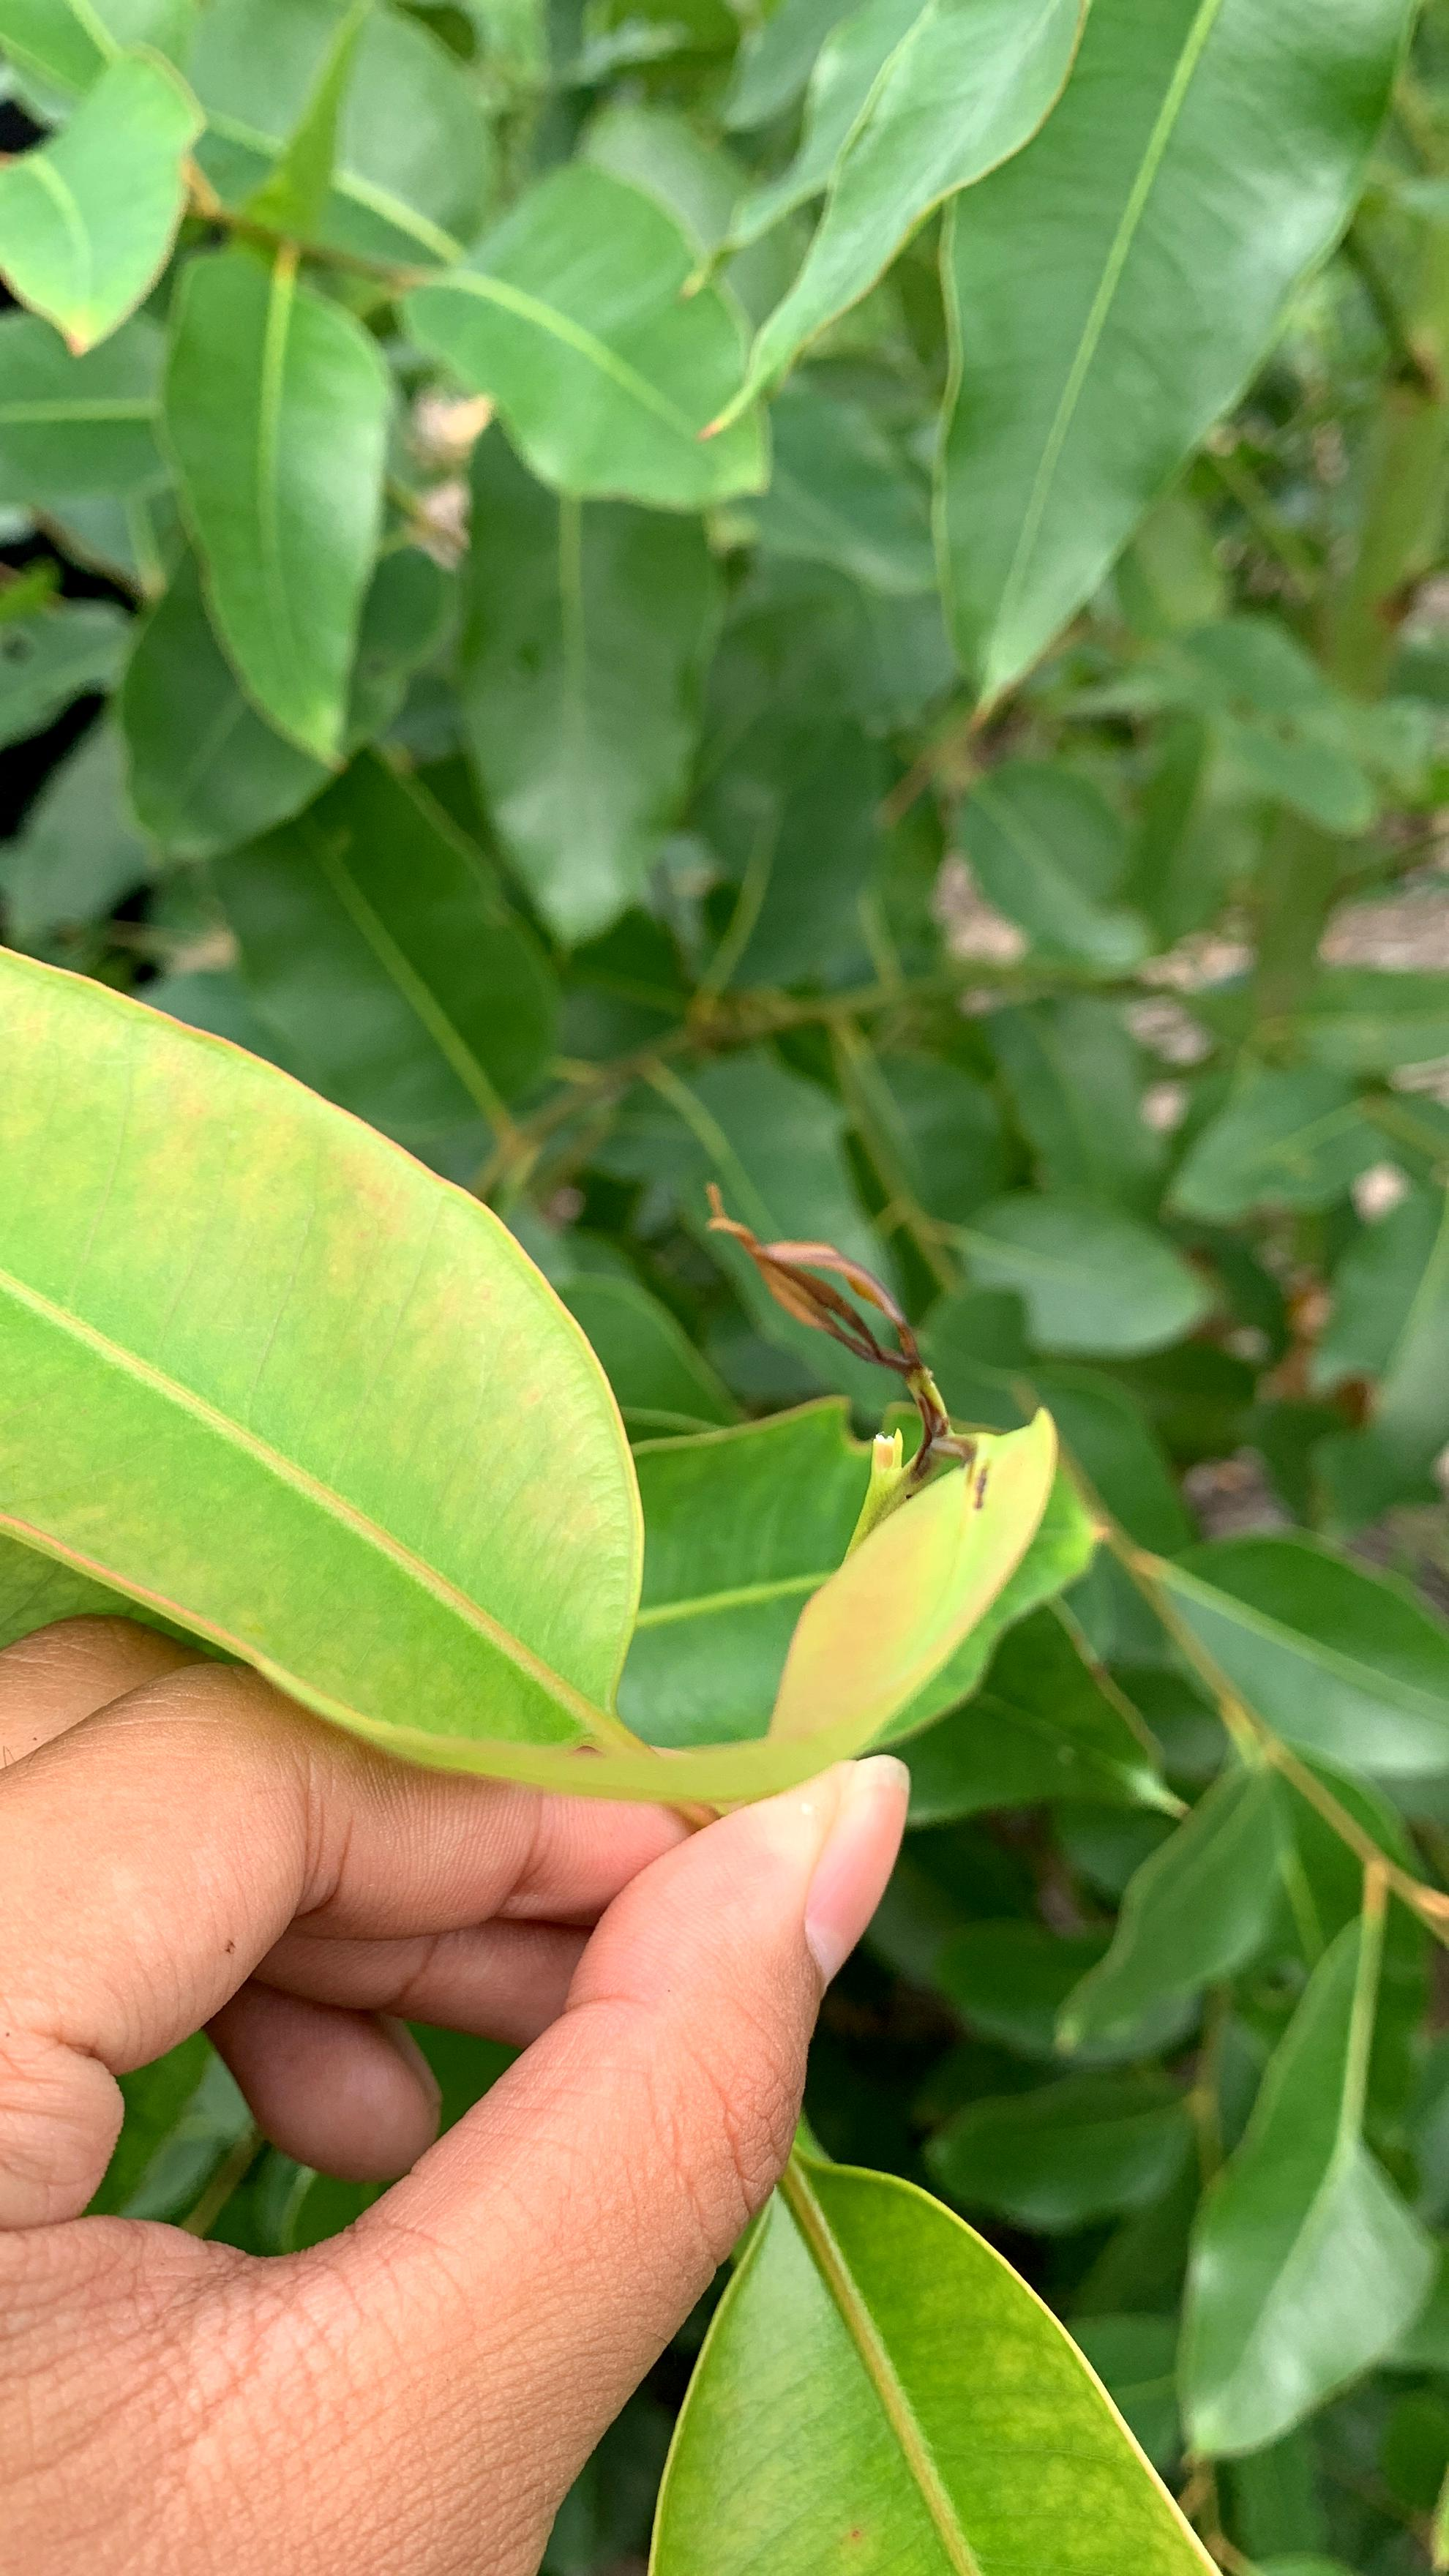Helopeltis-Withered Sprout: (697, 1173, 1044, 1559)
